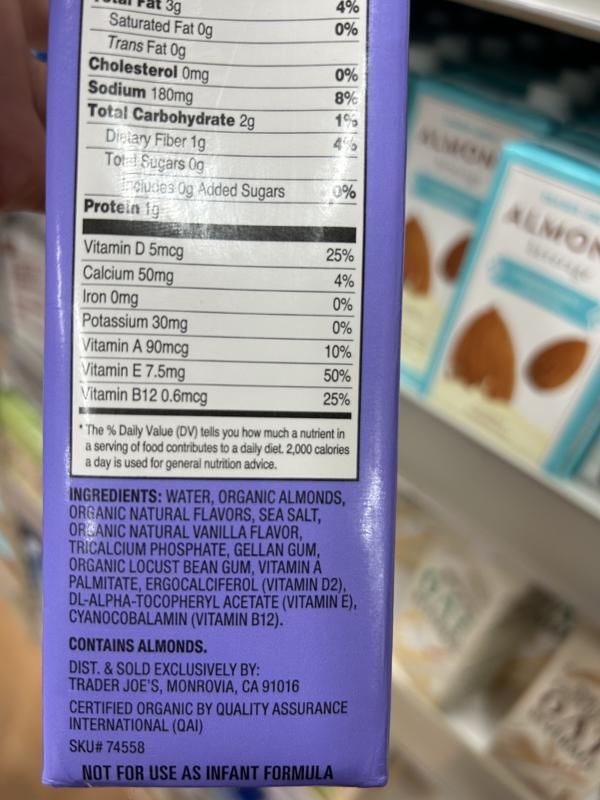ingredients: (67, 486, 359, 630)
